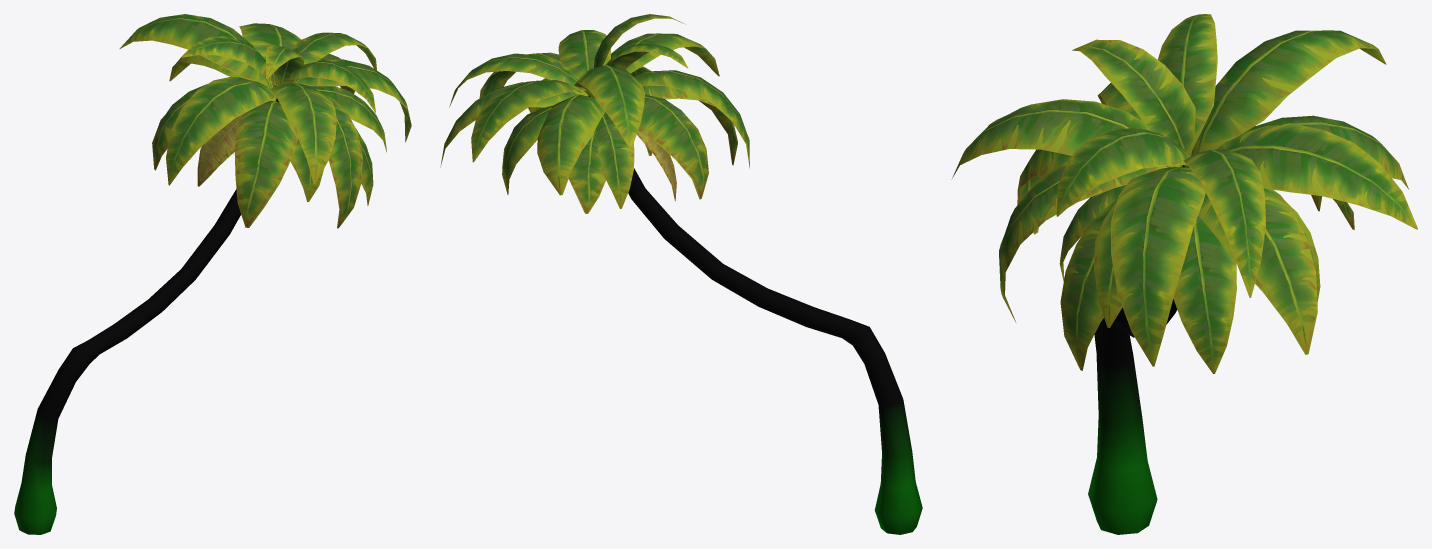
File: P_PalmTree10.obj
3 views of the same model, side by side, from view 1: azimuth 30°, elevation 25°; view 2: azimuth 150°, elevation 25°; view 3: azimuth 270°, elevation 25° (orthographic). The views are drawn at different scales.
Bounding box in the file's own units: 12.94 × 13.01 × 8.35.
